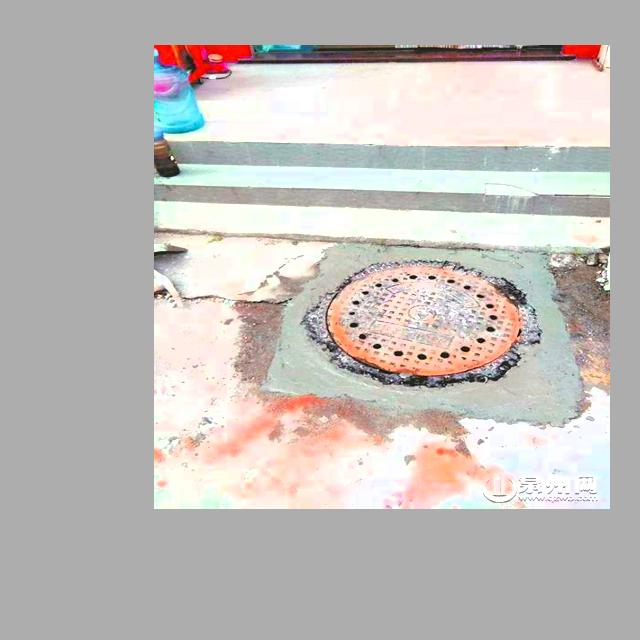good: (299, 242, 577, 417)
